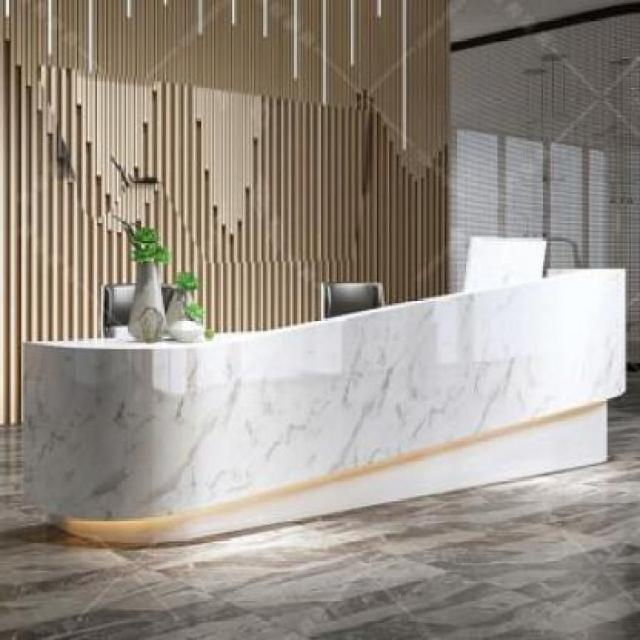frontdesk: (12, 256, 635, 556)
